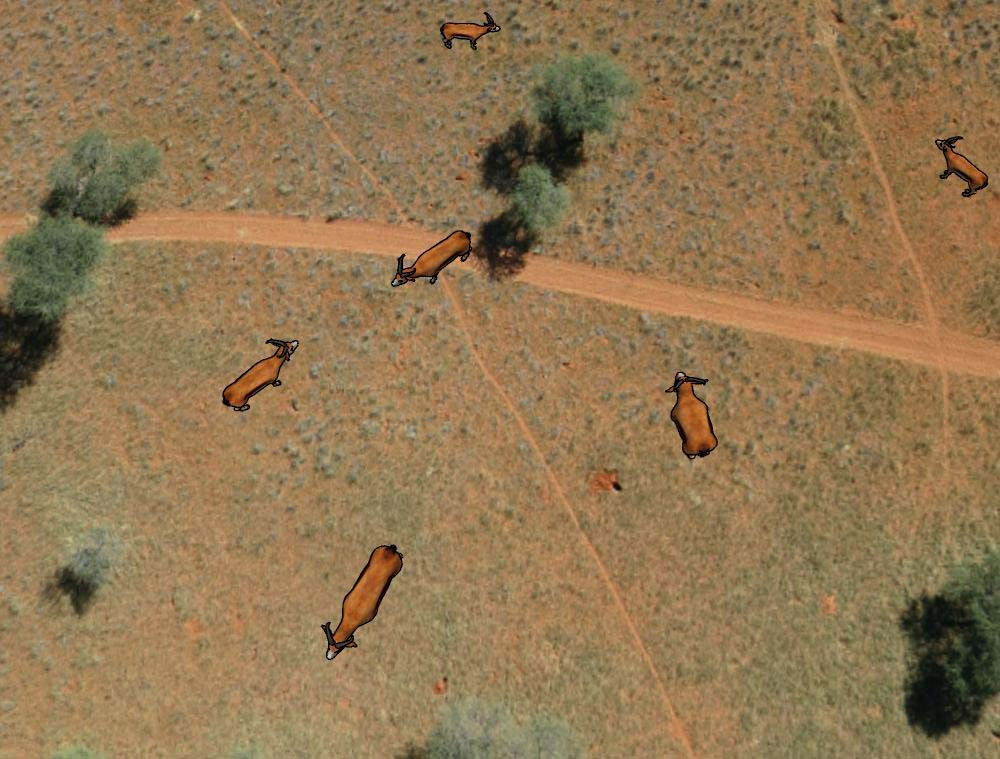springbok: (320, 542, 405, 662), (657, 364, 727, 464), (221, 336, 299, 414), (391, 227, 473, 291), (929, 136, 990, 204), (437, 7, 501, 53)
